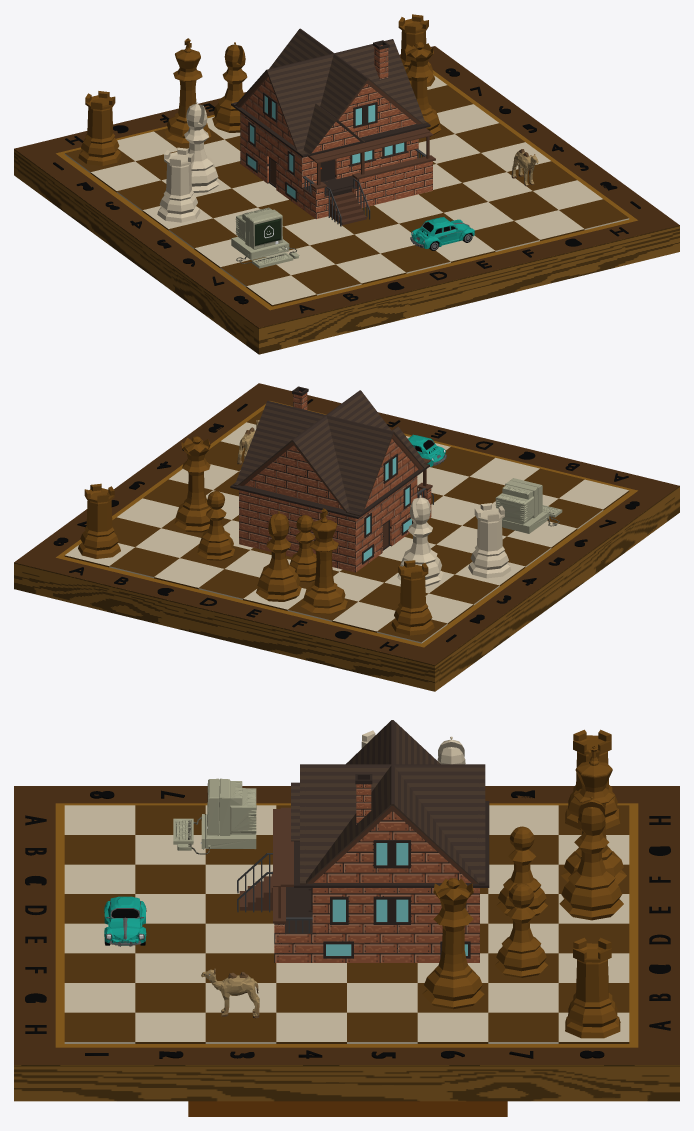
3 renders of one model, top to bottom at view 1: azimuth 30°, elevation 25°; view 2: azimuth 150°, elevation 25°; view 3: azimuth 270°, elevation 25°, orthographic. The views are drawn at different scales.
Parts seen in each view (by area): view 1: Cube.002, Cube.469, OBJRANDOM_RETRO_PC, VEHICLES_VOLKSWAGEN, ANIMAL_CAMELLO; view 2: Cube.002, Cube.469, OBJRANDOM_RETRO_PC, VEHICLES_VOLKSWAGEN; view 3: Cube.002, Cube.469, UNDERGROUND_ART_PIECE_VAN_GOGH, OBJRANDOM_RETRO_PC, VEHICLES_VOLKSWAGEN, ANIMAL_CAMELLO.
Boxes of the visible parts, x1=… form: Cube.002: x1=14, y1=14, x2=679, y2=354; Cube.469: x1=231, y1=28, x2=435, y2=226; OBJRANDOM_RETRO_PC: x1=231, y1=207, x2=299, y2=268; VEHICLES_VOLKSWAGEN: x1=410, y1=217, x2=475, y2=250; ANIMAL_CAMELLO: x1=511, y1=149, x2=538, y2=186; Cube.002: x1=14, y1=383, x2=679, y2=691; Cube.469: x1=230, y1=386, x2=433, y2=572; OBJRANDOM_RETRO_PC: x1=495, y1=478, x2=562, y2=533; VEHICLES_VOLKSWAGEN: x1=408, y1=434, x2=446, y2=466; Cube.002: x1=14, y1=729, x2=679, y2=1101; Cube.469: x1=237, y1=720, x2=489, y2=962; UNDERGROUND_ART_PIECE_VAN_GOGH: x1=188, y1=1101, x2=507, y2=1116; OBJRANDOM_RETRO_PC: x1=173, y1=778, x2=256, y2=854; VEHICLES_VOLKSWAGEN: x1=104, y1=896, x2=146, y2=946; ANIMAL_CAMELLO: x1=201, y1=968, x2=259, y2=1018.
Size of the model in its own units: 3981 by 1610 by 4012.
Materials: 34 (4 with a texture image).
